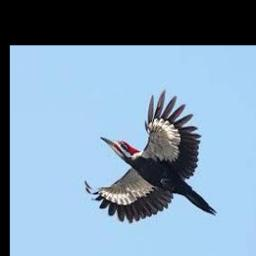Woodpecker: (84, 89, 217, 222)
